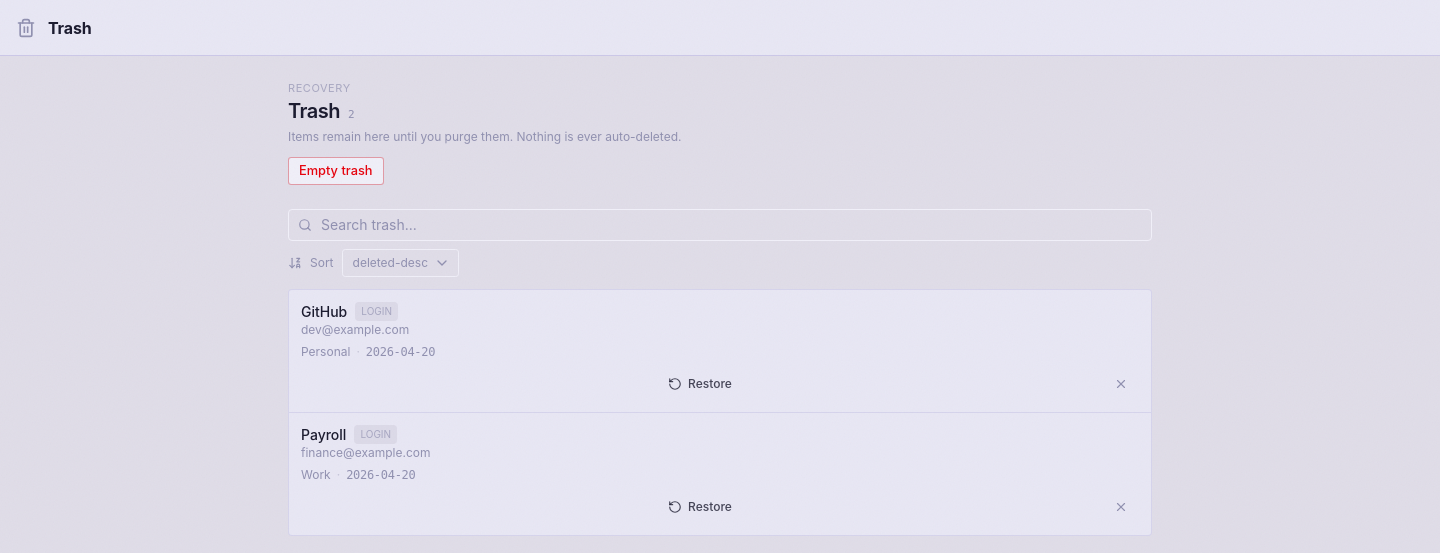
Test case: TrashPage › search filters by title, subtitle, and source vault
Type "finance" into the field labelled "Search trash" at (720, 224), box x1=288 y1=208 x2=1152 y2=240
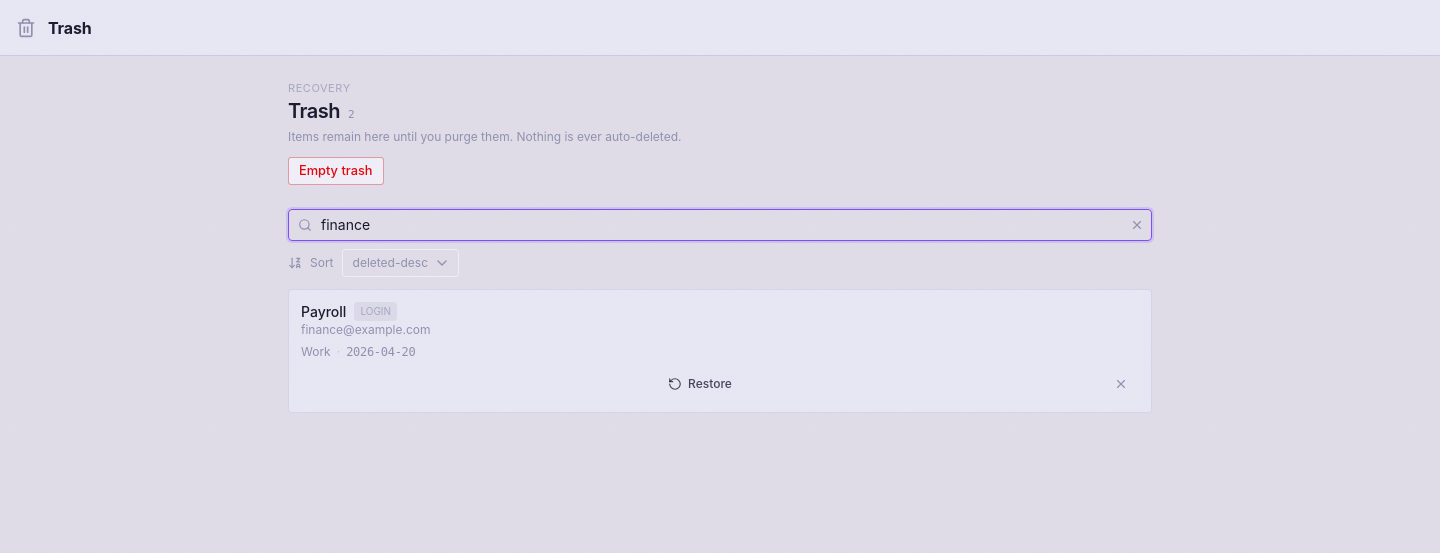
Expected: the text "Payroll" is shown, x1=301 y1=302 x2=346 y2=322
Now the text "GitHub" is gone
Replace the text in the field named "Search trash" with "personal" at (720, 224), box x1=288 y1=208 x2=1152 y2=240
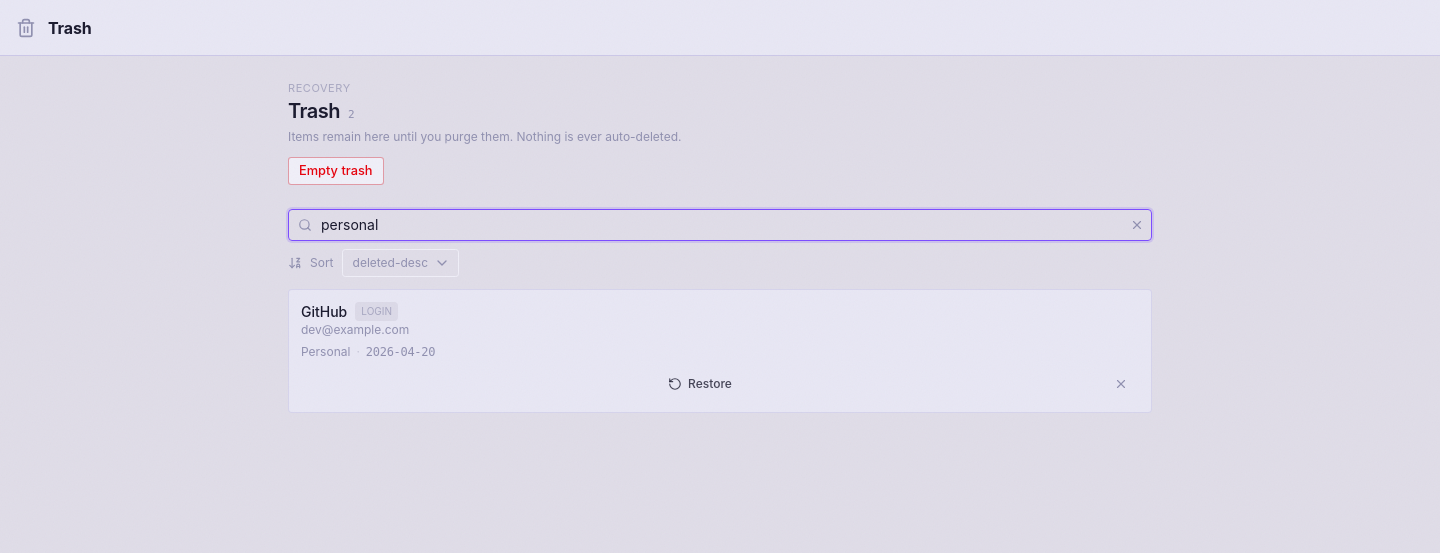
Expected: the text "Payroll" is not shown
Now the text "GitHub" is shown, box x1=301 y1=302 x2=347 y2=322
Replace the text in the field named "Search trash" with "pay" at (720, 224), box x1=288 y1=208 x2=1152 y2=240
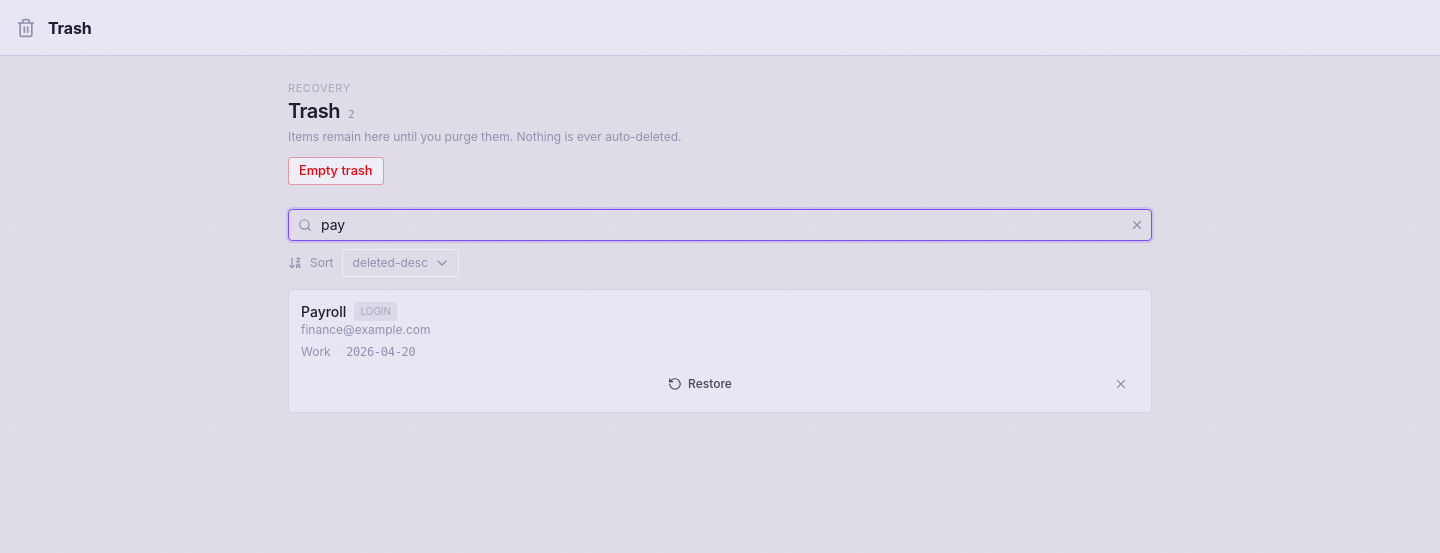
Now the text "Payroll" is shown, box x1=301 y1=302 x2=346 y2=322
Now the text "GitHub" is gone
Click the button named "Clear trash search" at (1137, 224), box x1=1130 y1=218 x2=1144 y2=232
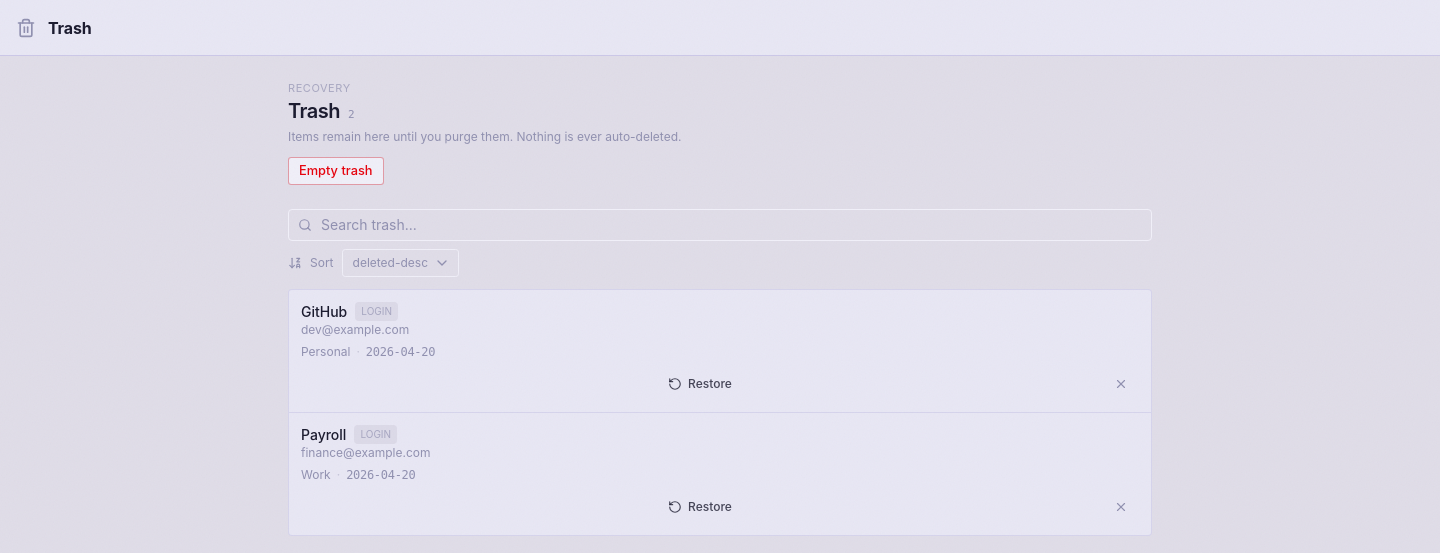
Now the text "GitHub" is shown, box x1=301 y1=302 x2=347 y2=322
